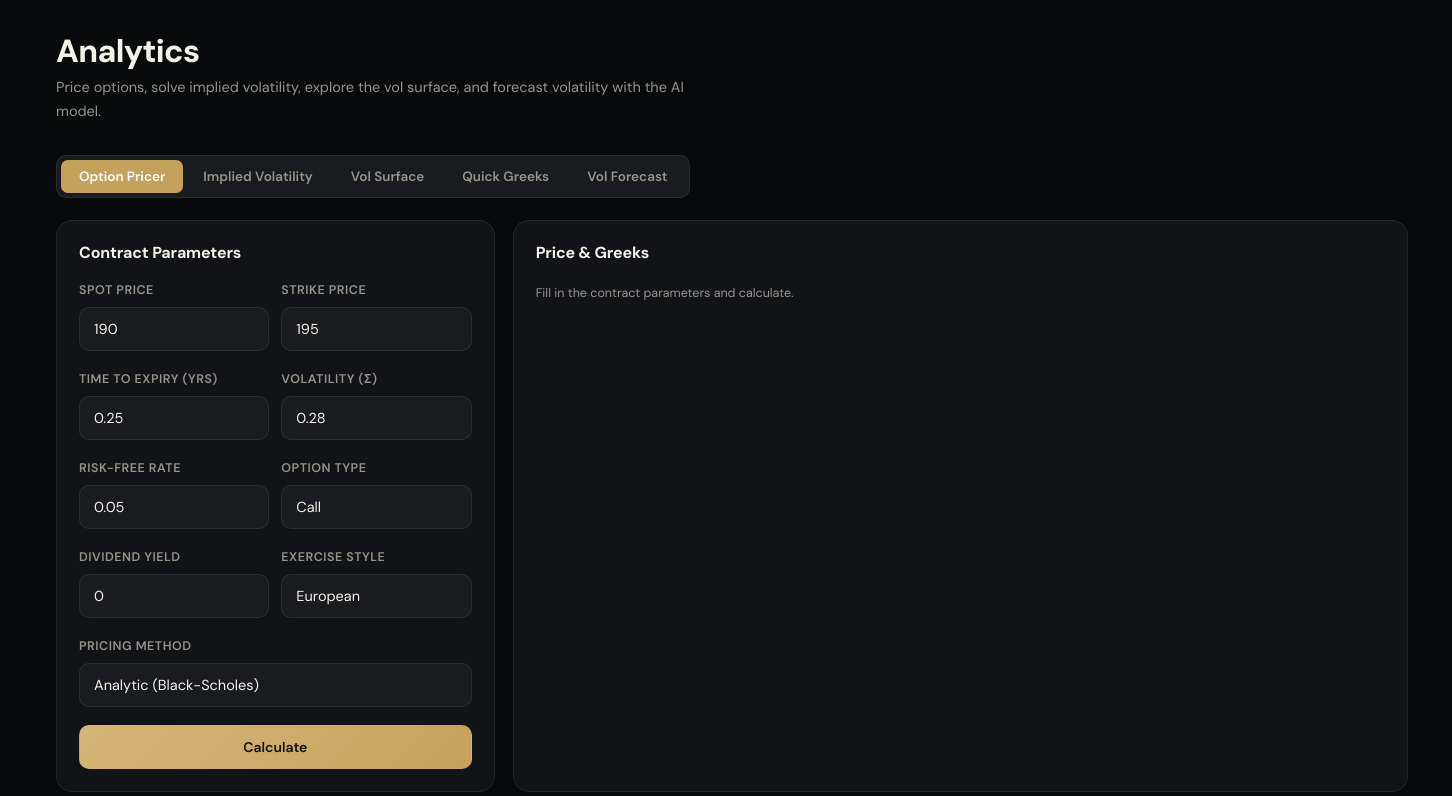
it: Volatility surface › shows a hint before generating and an error on failure
Step 1. Click the button "Vol Surface" → point(388, 176), box [333,160,442,193]
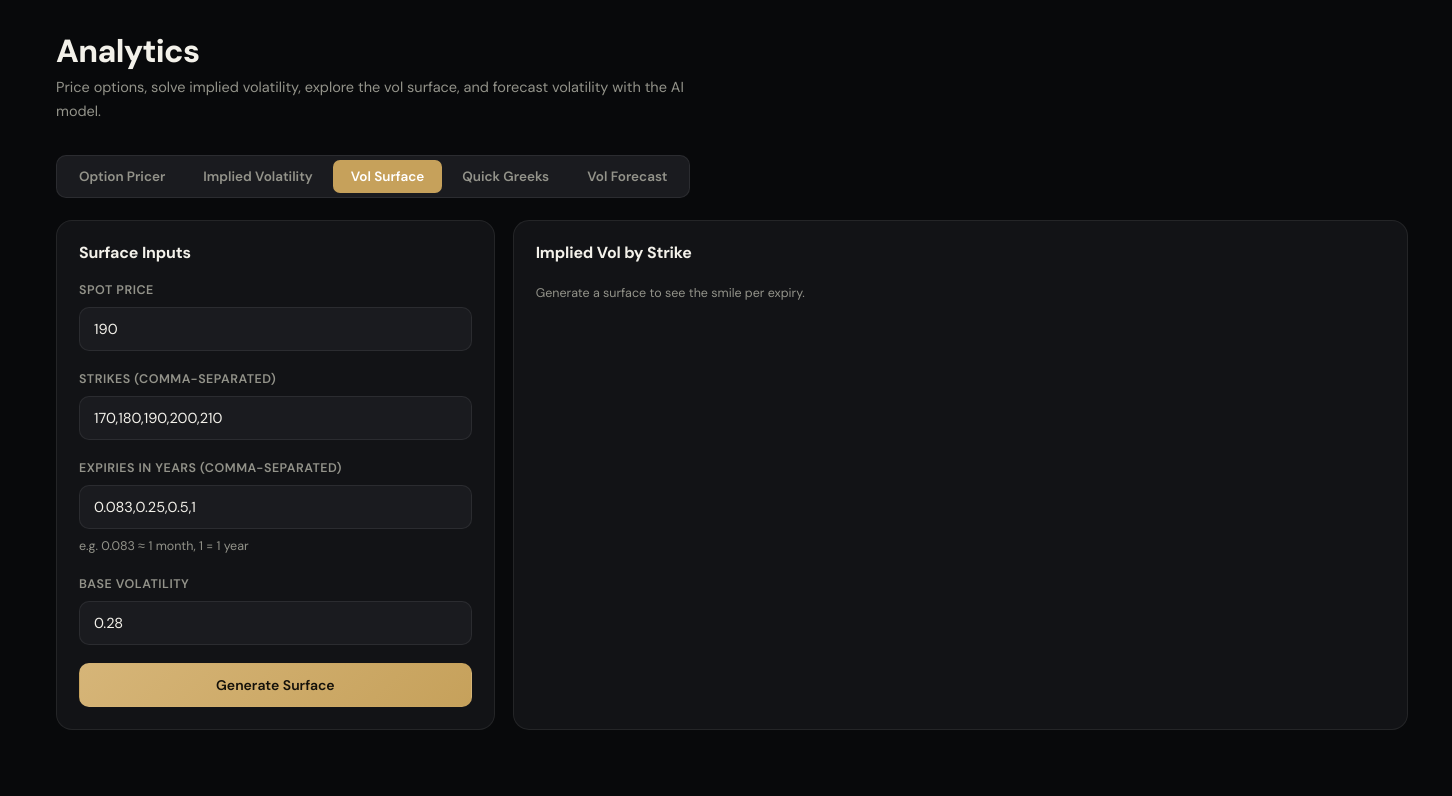
Expected: the text "Generate a surface to see the smile per expiry." is shown, [536,285,805,301]
Step 2. Click the button "Generate Surface" → point(275, 685), box [79,663,472,707]
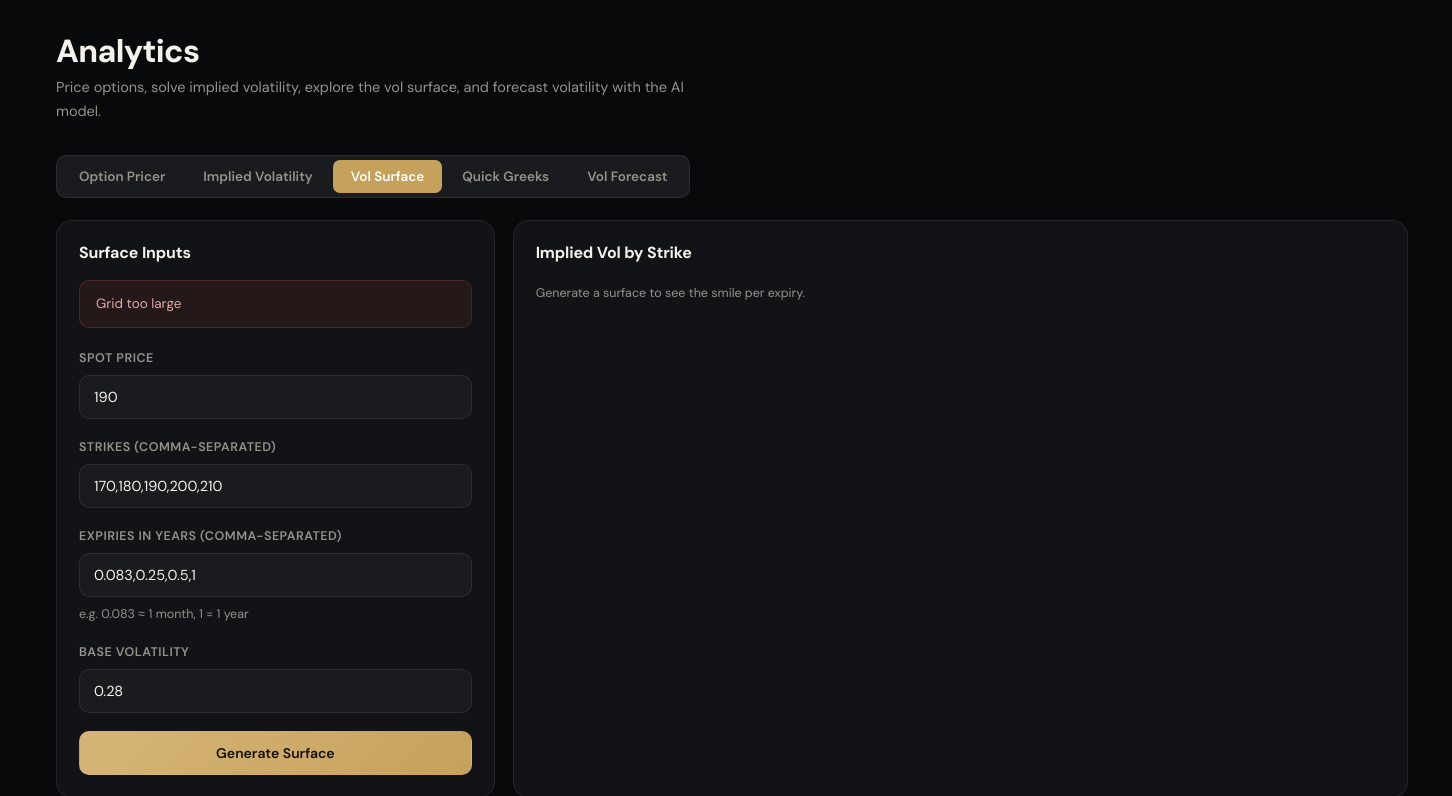
Expected: the text "Grid too large" is shown, [79,280,472,328]
